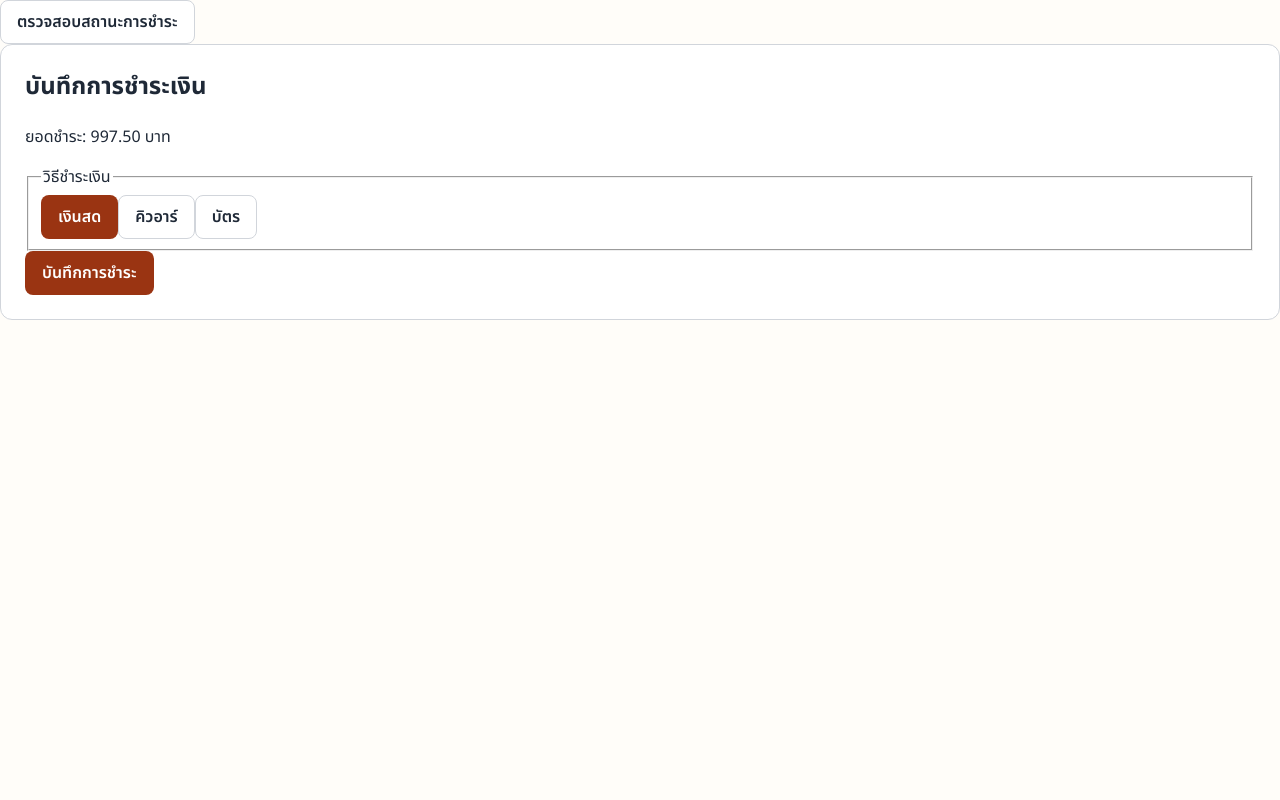
Scenario: Payment status and recovery › allows a confirmed manual retry only after a successful no-payment lookup
What coordinates should you click on to do the following:
click the button "บันทึกการชำระ"
I would click on:
 (89, 272)
Its box is top-left (25, 250), bottom-right (154, 294).
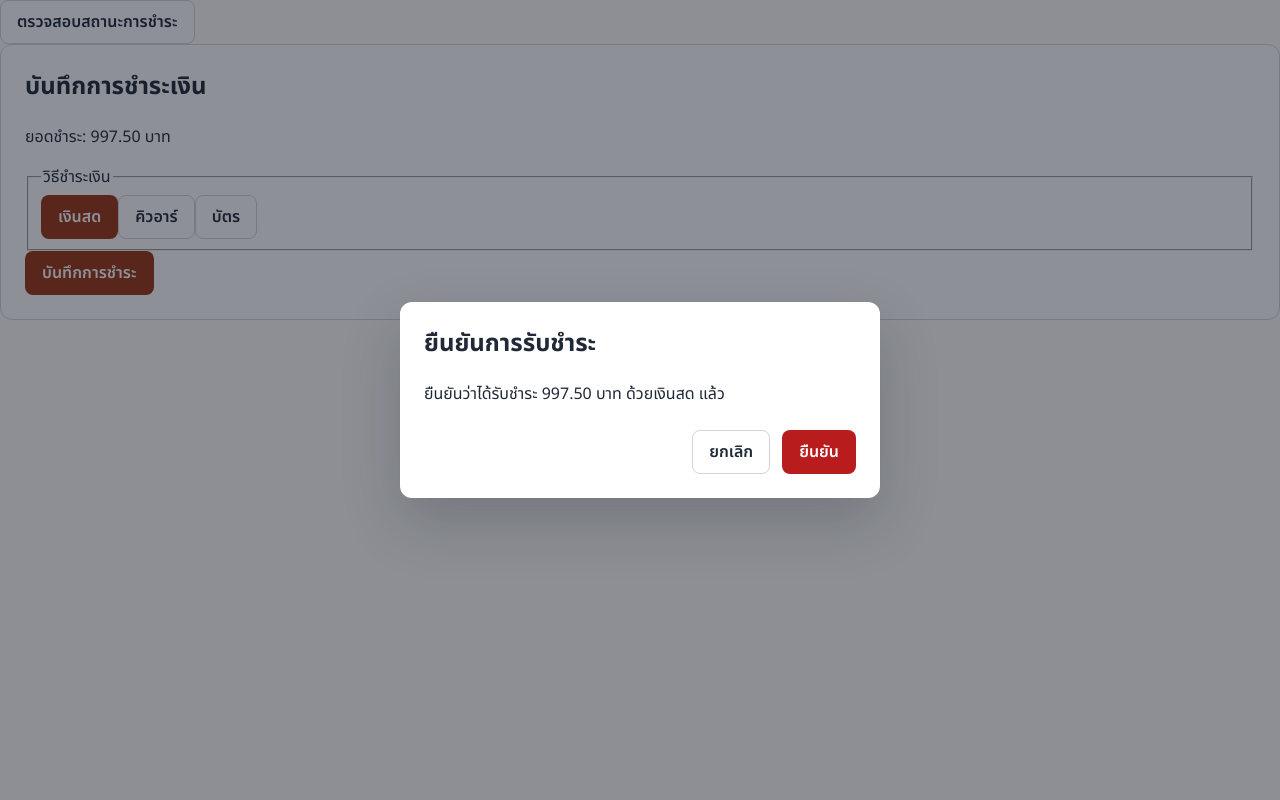
What coordinates should you click on to do the following:
click the button "ยืนยัน"
I would click on:
 (819, 452)
Its box is top-left (782, 430), bottom-right (856, 474).
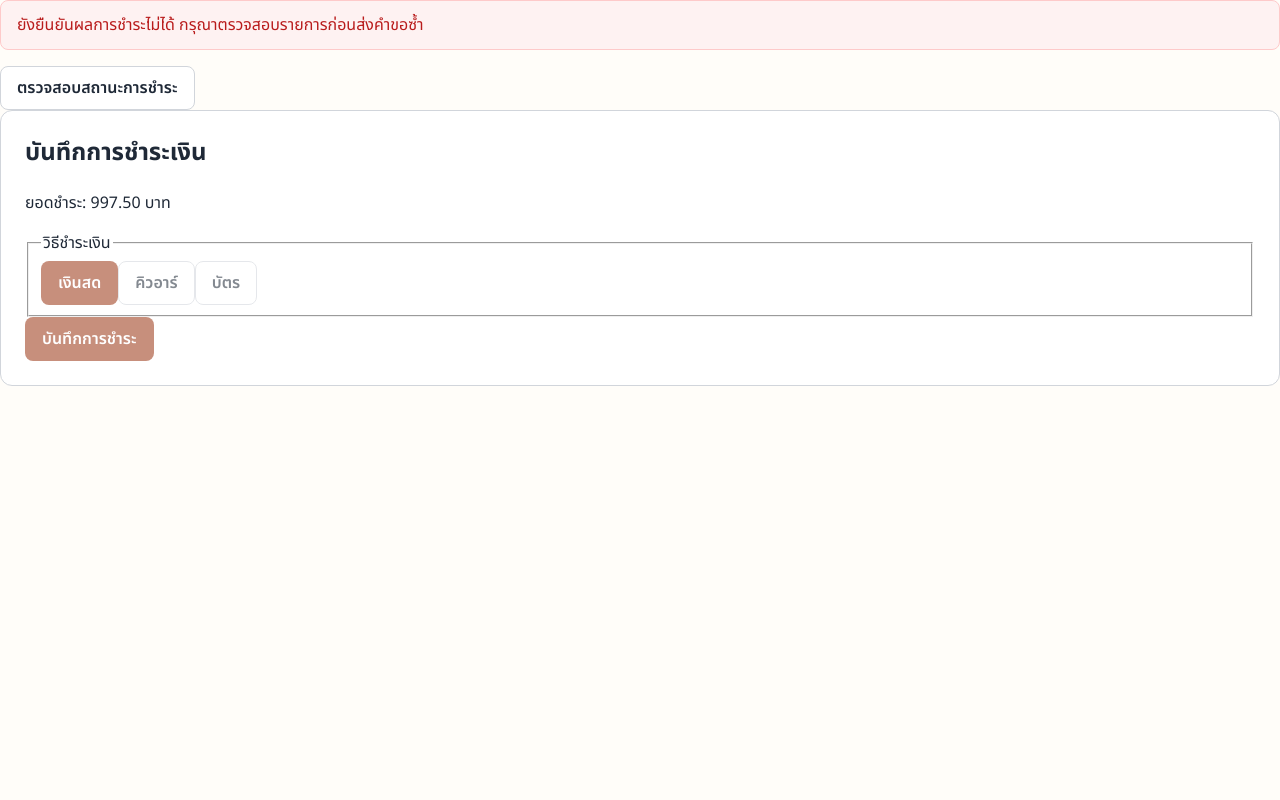
Now the message "ยังยืนยันผลการชำระไม่ได้ กรุณาตรวจสอบรายการก่อนส่งคำขอซ้ำ" is shown, box top-left (0, 0), bottom-right (1279, 50)
Now the button "บันทึกการชำระ" is disabled, box top-left (25, 316), bottom-right (154, 360)
What coordinates should you click on to do the following:
click the button "ตรวจสอบสถานะการชำระ"
I would click on:
 (97, 88)
Its box is top-left (0, 66), bottom-right (194, 110).
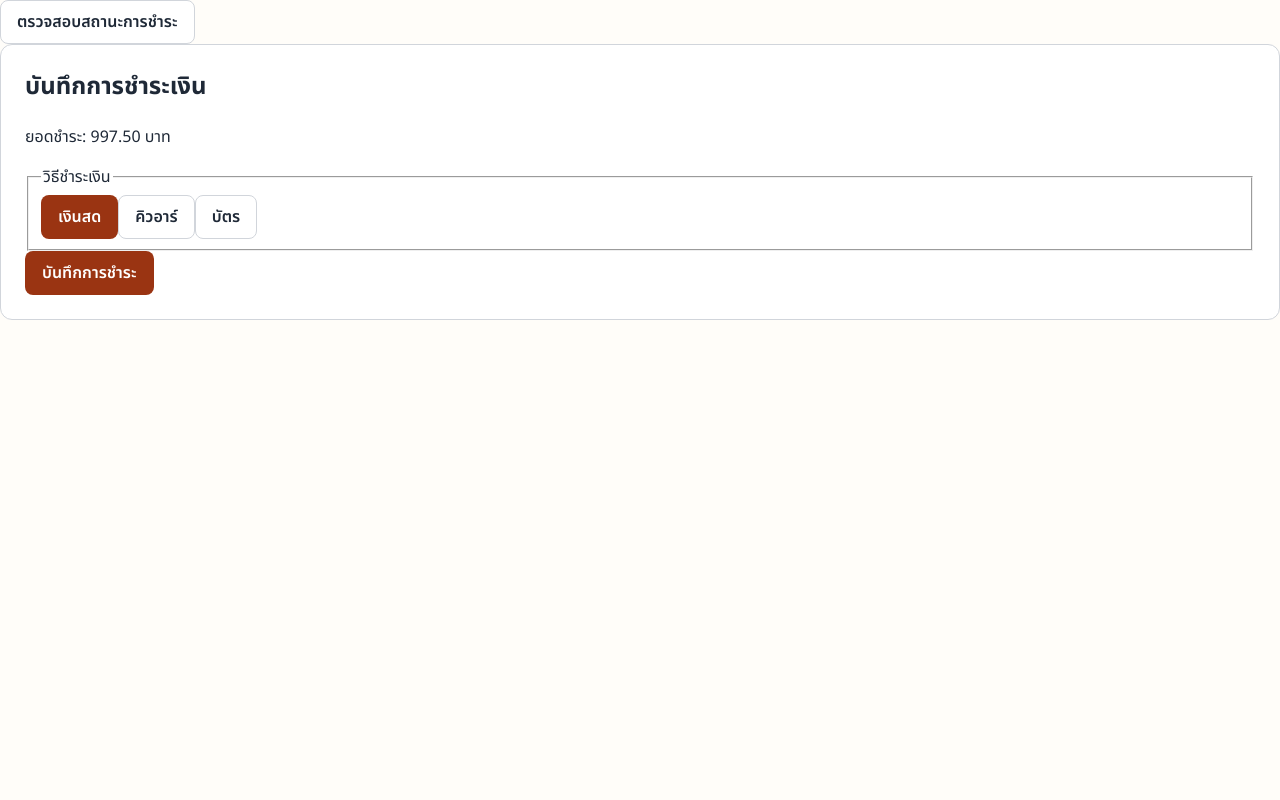
Now the button "บันทึกการชำระ" is enabled
What coordinates should you click on to do the following:
click the button "บันทึกการชำระ"
I would click on:
 (89, 272)
Its box is top-left (25, 250), bottom-right (154, 294).
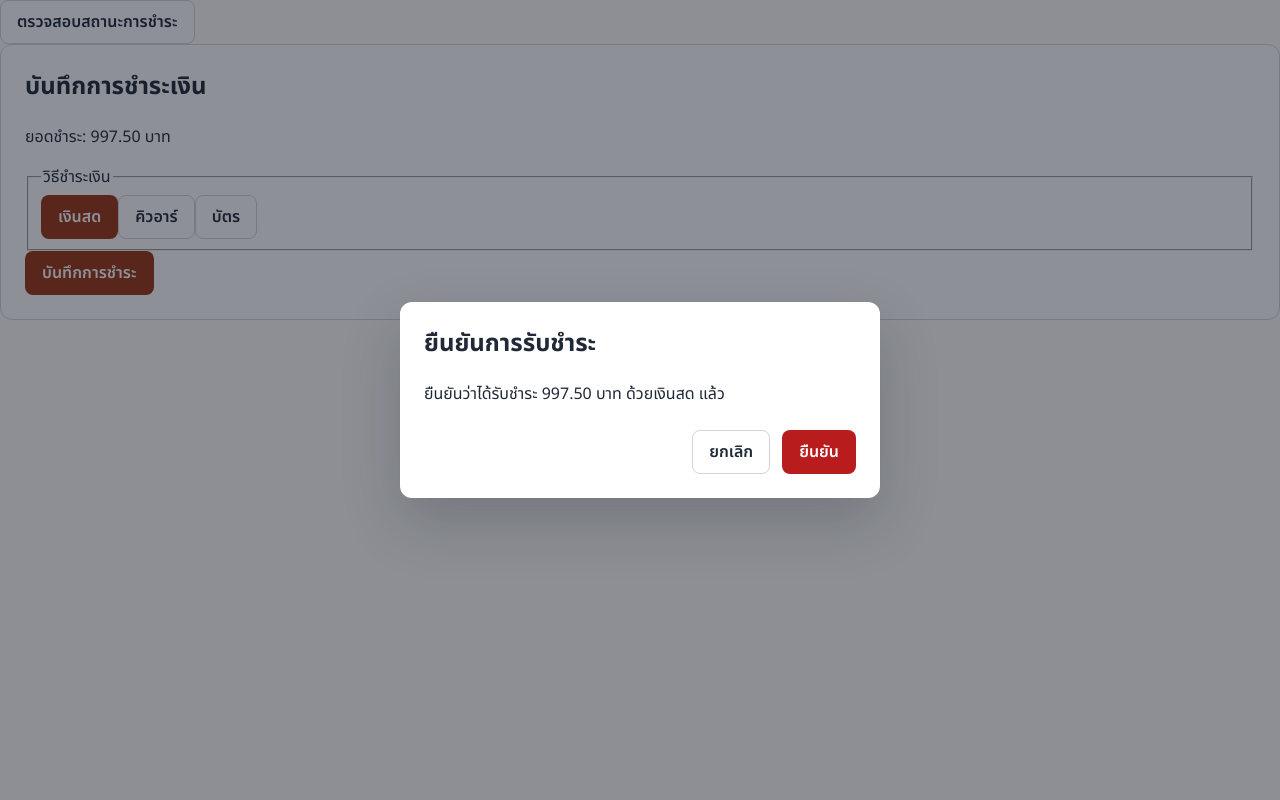
What coordinates should you click on to do the following:
click the button "ยืนยัน"
I would click on:
 (819, 452)
Its box is top-left (782, 430), bottom-right (856, 474).
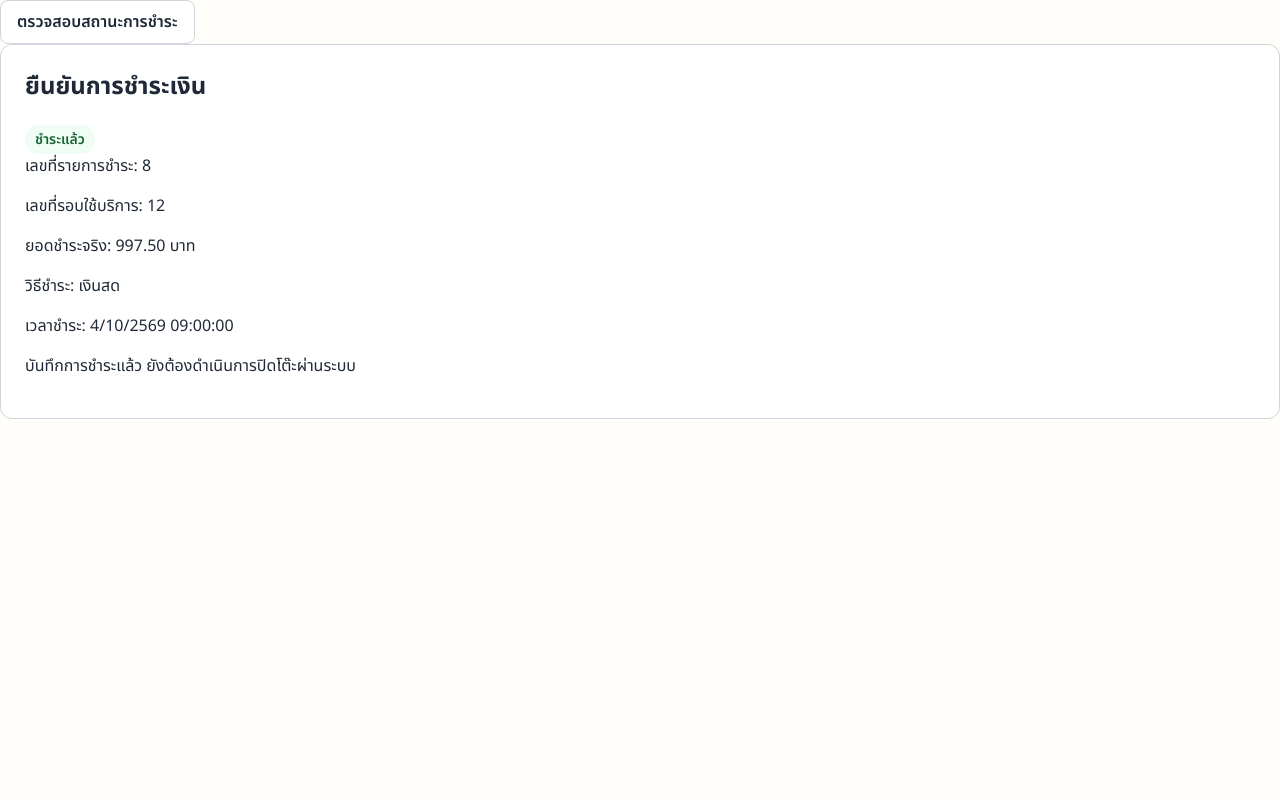
Now the text "ชำระแล้ว" is shown, box top-left (25, 125), bottom-right (95, 154)
